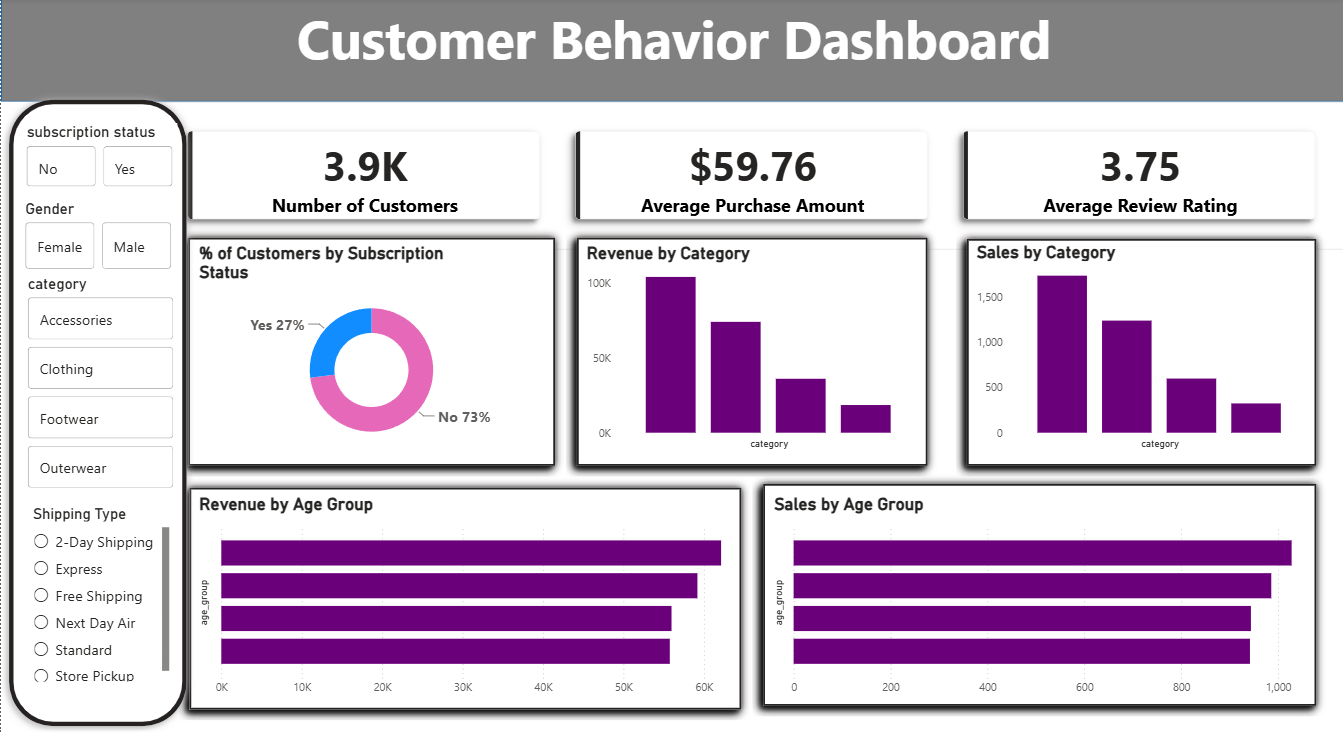

Layout of this report page (visuals, bound fields, positions):
{"tool":"powerbi","page":{"name":"Page 1","canvas":[1500,820],"ordinal":0},"visuals":[{"type":"cardVisual","fields":{"Data":["public customer.Number of Customers","public customer.Average Purchase Amount","public customer.Average Review Rating"]},"box":[175.5,115.6,1324.4,164.3],"z":0},{"type":"shape","box":[0,0,1499.9,115.6],"z":1000},{"type":"textbox","box":[0,0,1499.9,115.6],"z":2000},{"type":"shape","box":[196.4,254.9,433.1,278.5],"z":2001},{"type":"donutChart","title":"% of Customers by Subscription Status","fields":{"Y":["CountNonNull(public customer.customer_id)"],"Category":["public customer.subscription_status"]},"box":[215.9,273,394.1,235.4],"z":2002},{"type":"shape","box":[629.5,254.9,415,278.5],"z":2003},{"type":"shape","box":[1064,256.3,413.6,277.1],"z":2004},{"type":"shape","box":[197.8,533.4,639.2,271.6],"z":2005},{"type":"clusteredColumnChart","title":"Revenue by Category","fields":{"Y":["Sum(public customer.purchase_amount)"],"Category":["public customer.category"]},"box":[647.6,273,380.2,235.4],"z":2008},{"type":"clusteredColumnChart","title":"Sales by Category","fields":{"Category":["public customer.category"],"Y":["CountNonNull(public customer.customer_id)"]},"box":[1082.1,271.6,380.2,236.8],"z":2009},{"type":"shape","box":[0,104.5,215.9,715.8],"z":2010},{"type":"advancedSlicerVisual","fields":{"Values":["public customer.subscription_status"]},"box":[23.7,139.3,172.7,76.6],"z":2011},{"type":"advancedSlicerVisual","fields":{"Values":["public customer.gender"]},"box":[22.3,224.2,172.7,83.6],"z":2012},{"type":"advancedSlicerVisual","fields":{"Values":["public customer.category"]},"box":[25.1,307.8,172.7,243.7],"z":2013},{"type":"listSlicer","fields":{"Values":["public customer.shipping_type"]},"box":[30.6,564,162.9,203.3],"z":2014},{"type":"shape","box":[837,529.2,640.6,271.6],"z":2015},{"type":"clusteredBarChart","title":"Revenue by Age Group","fields":{"Category":["public customer.age_group"],"Y":["Sum(public customer.purchase_amount)"]},"box":[215.9,552.9,601.6,234],"z":2016},{"type":"clusteredBarChart","title":"Sales by Age Group","fields":{"Category":["public customer.age_group"],"Y":["CountNonNull(public customer.customer_id)"]},"box":[856.5,552.9,601.6,234],"z":2017}]}

Visuals, with their boxes in screenshot pixels (x1, y1, x2, y2), scaled from the page's 1500x820 canvas onto the 1343x732 screenshot:
cardVisual - public customer.Number of Customers x public customer.Average Purchase Amount: crop(157, 103, 1342, 250)
shape: crop(0, 0, 1342, 103)
textbox: crop(0, 0, 1342, 103)
shape: crop(176, 228, 564, 476)
"% of Customers by Subscription Status" donutChart: crop(193, 244, 546, 454)
shape: crop(564, 228, 935, 476)
shape: crop(953, 229, 1323, 476)
shape: crop(177, 476, 749, 719)
"Revenue by Category" clusteredColumnChart: crop(580, 244, 920, 454)
"Sales by Category" clusteredColumnChart: crop(969, 242, 1309, 454)
shape: crop(0, 93, 193, 731)
advancedSlicerVisual - public customer.subscription_status: crop(21, 124, 176, 193)
advancedSlicerVisual - public customer.gender: crop(20, 200, 175, 275)
advancedSlicerVisual - public customer.category: crop(22, 275, 177, 492)
listSlicer - public customer.shipping_type: crop(27, 503, 173, 685)
shape: crop(749, 472, 1323, 715)
"Revenue by Age Group" clusteredBarChart: crop(193, 494, 732, 702)
"Sales by Age Group" clusteredBarChart: crop(767, 494, 1305, 702)
